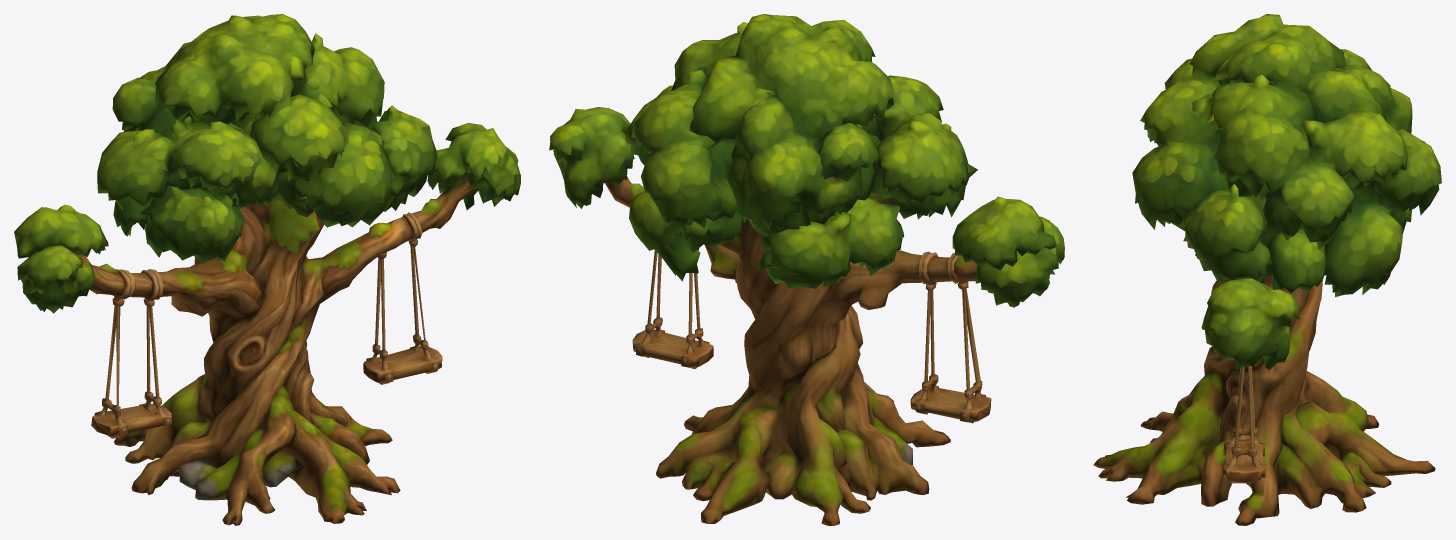
File: jardin_arbre_balancelles.glb
3 views of the same model, side by side, from view 1: azimuth 30°, elevation 25°; view 2: azimuth 150°, elevation 25°; view 3: azimuth 270°, elevation 25° (orthographic). The views are drawn at different scales.
Visible parts, largest first — view 1: geometry_0; view 2: geometry_0; view 3: geometry_0.
Boxes of the visible parts, x1,y1,x2,y2 form: geometry_0: [14, 14, 520, 525]; geometry_0: [549, 14, 1064, 525]; geometry_0: [1093, 14, 1441, 525].
Bounding box in the file's own units: 0.9561 × 0.7988 × 0.5777.
Materials: 1 (1 with a texture image).
